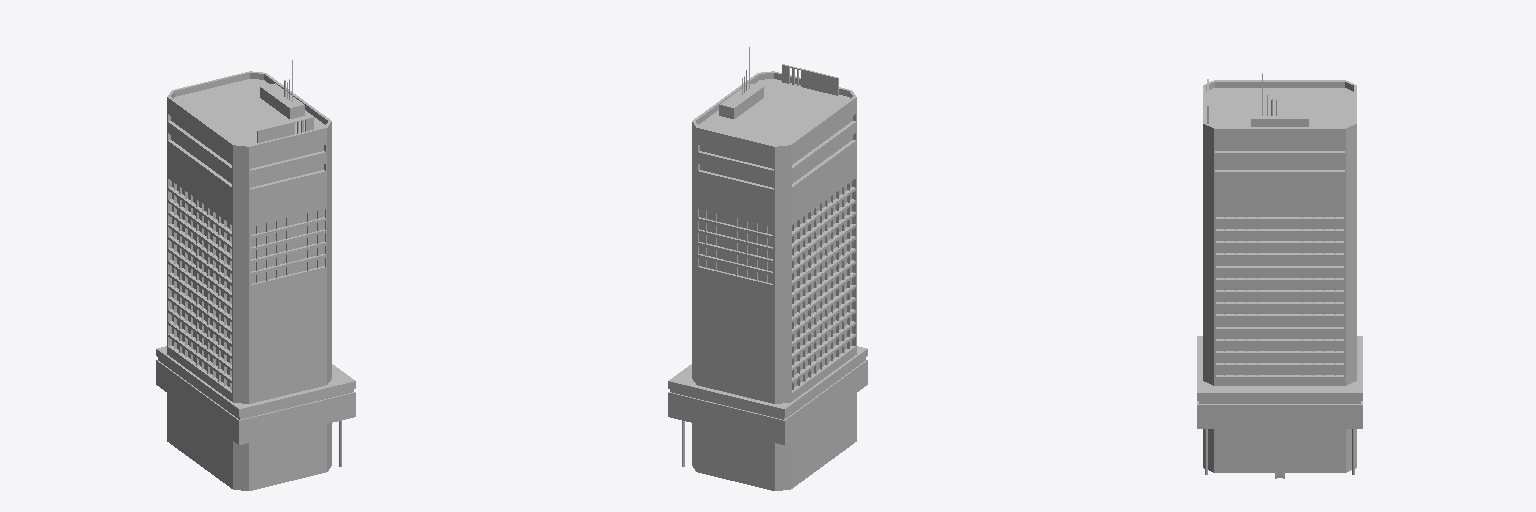
Rendered from building.obj.
The picture shows the model from 3 angles: view 1: azimuth 30°, elevation 25°; view 2: azimuth 150°, elevation 25°; view 3: azimuth 270°, elevation 25°; orthographic projection.
Visible parts, largest first — view 1: Building_011.1, Windows, Roof_Objects.1; view 2: Building_011.1, Windows, Roof_Objects.1; view 3: Building_011.1, Windows, Roof_Objects.1, Bottom_poles.1.
Boxes of the visible parts, x1=… form: Building_011.1: x1=156, y1=71, x2=355, y2=490; Windows: x1=158, y1=117, x2=353, y2=419; Roof_Objects.1: x1=257, y1=83, x2=313, y2=142; Building_011.1: x1=668, y1=71, x2=867, y2=490; Windows: x1=670, y1=117, x2=865, y2=419; Roof_Objects.1: x1=719, y1=64, x2=838, y2=118; Building_011.1: x1=1197, y1=80, x2=1362, y2=472; Windows: x1=1199, y1=145, x2=1360, y2=403; Roof_Objects.1: x1=1207, y1=79, x2=1308, y2=126; Bottom_poles.1: x1=1205, y1=429, x2=1354, y2=478.
Bounding box in the file's own units: 278 × 894 × 343.